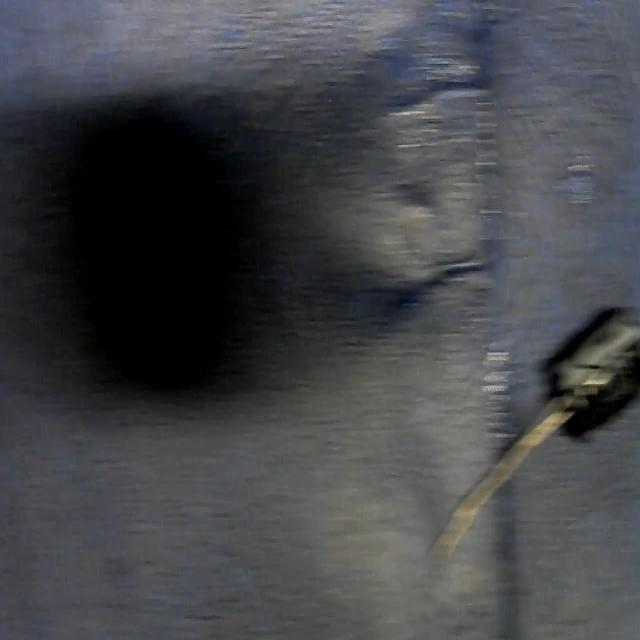capacitor: (427, 306, 640, 556)
